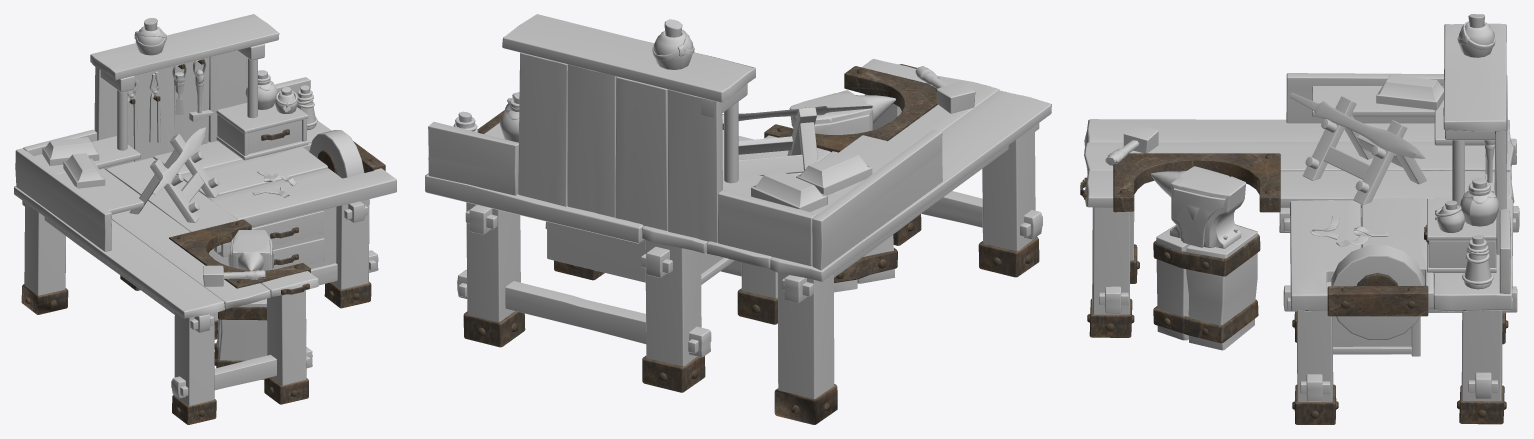
3 renders of one model, left to right at view 1: azimuth 30°, elevation 25°; view 2: azimuth 150°, elevation 25°; view 3: azimuth 270°, elevation 25°, orthographic. The views are drawn at different scales.
Parts seen in each view (by area): view 1: SM_MeleeBench_LOD0; view 2: SM_MeleeBench_LOD0; view 3: SM_MeleeBench_LOD0.
Part boxes in pixels (x1=…): SM_MeleeBench_LOD0: x1=14, y1=14, x2=396, y2=424; SM_MeleeBench_LOD0: x1=425, y1=14, x2=1051, y2=424; SM_MeleeBench_LOD0: x1=1080, y1=14, x2=1519, y2=424.
Size of the model in its own units: 2.54 by 2.13 by 2.63.
